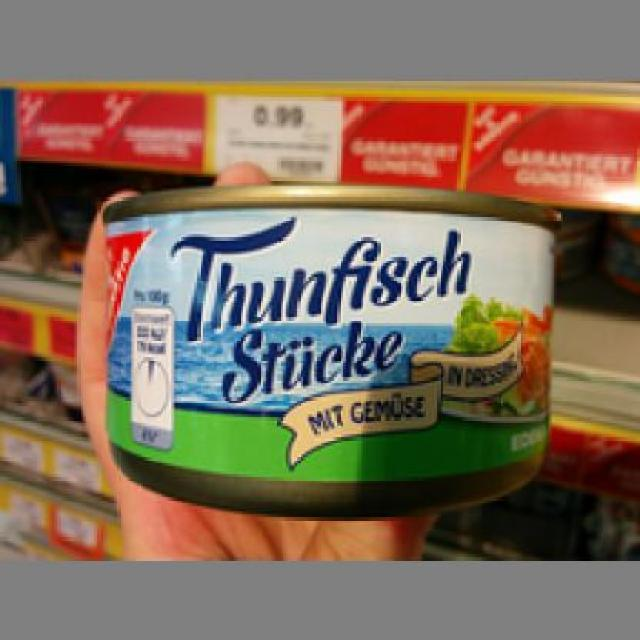Fish: (97, 182, 563, 518)
